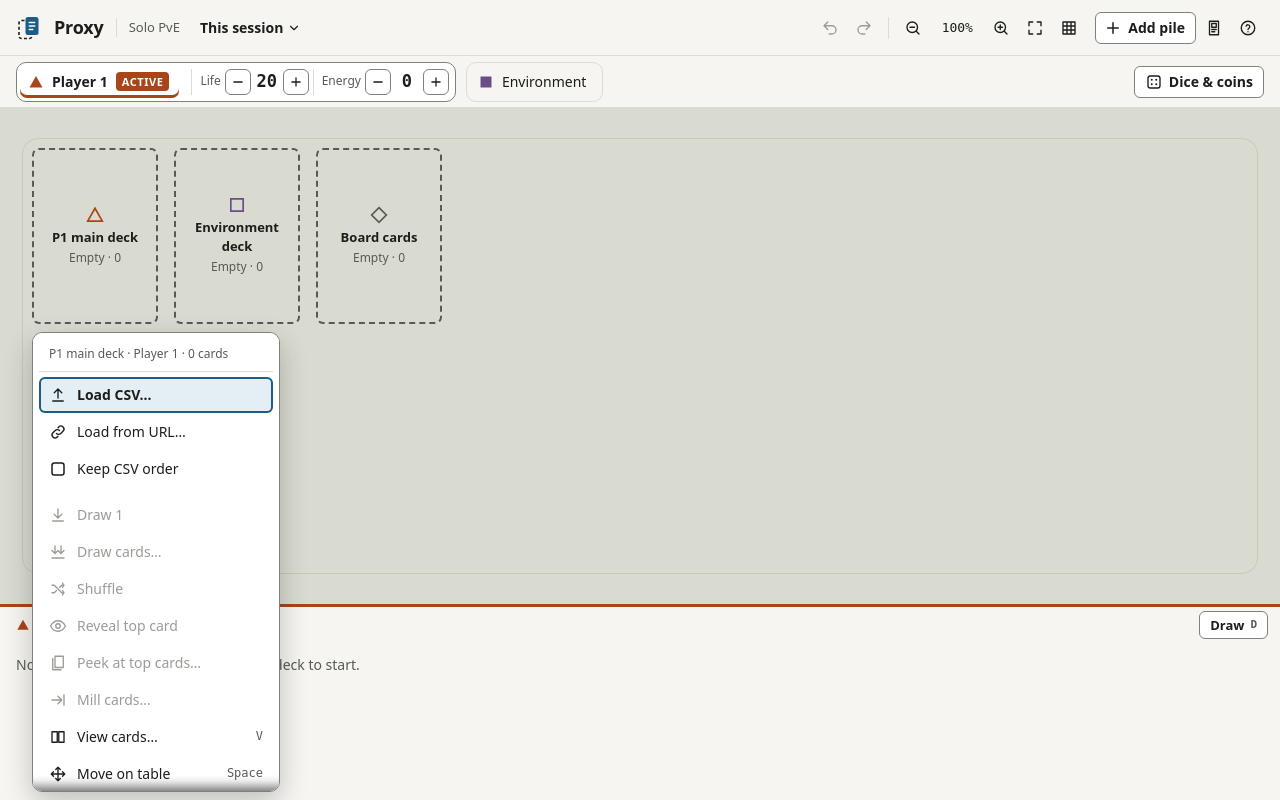
Test: Pile menu focus › closes the menu when its pile is clicked again, without drawing
Step 1. Click the button with aria-label "P1 main deck," → (95, 236), box [32,148,158,324]
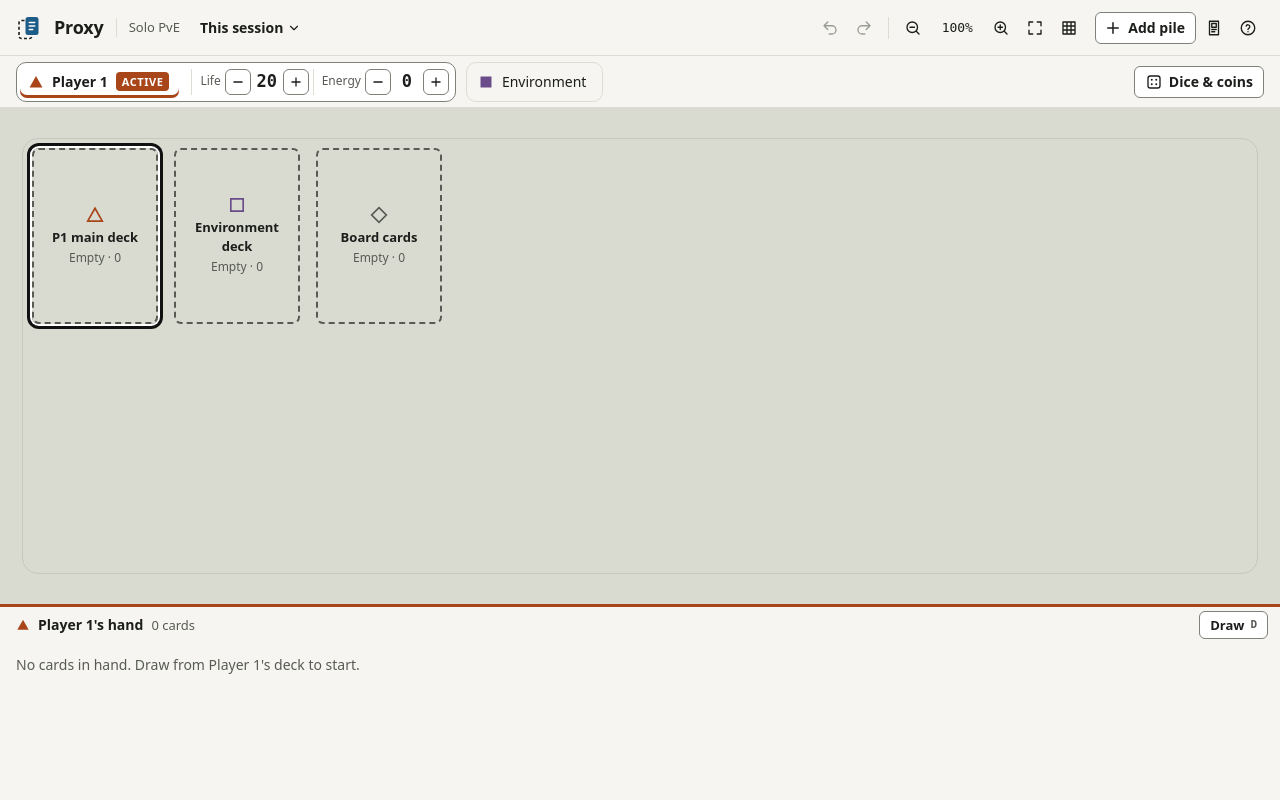
Result: the menu is gone
